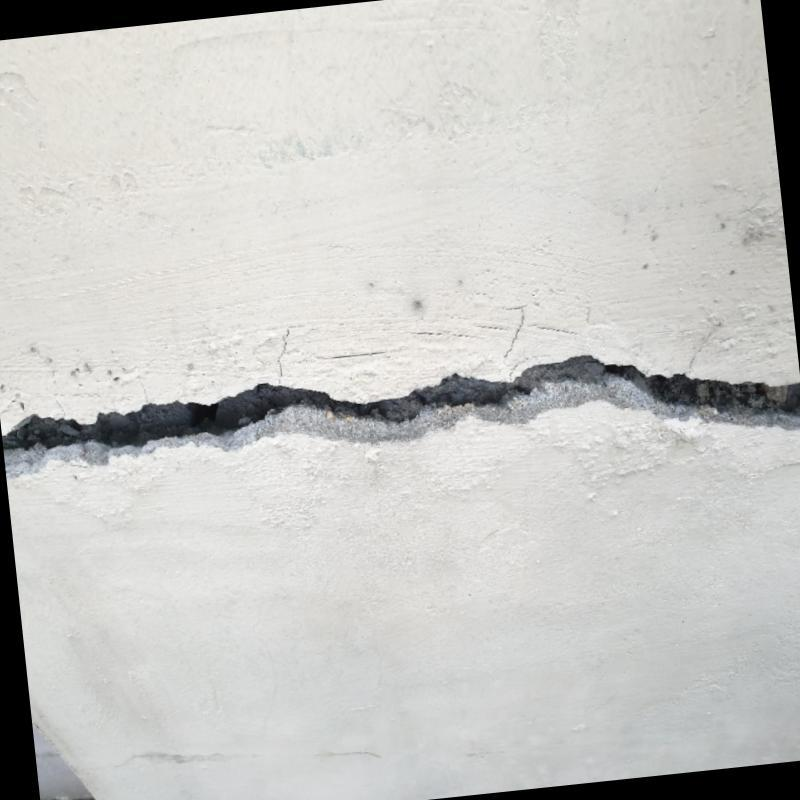pothole: (1, 350, 800, 466)
